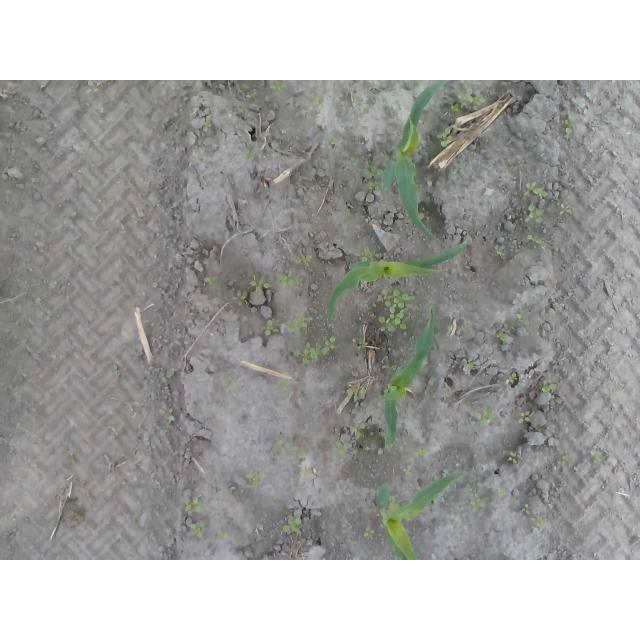Maize: (378, 80, 449, 236), (328, 241, 467, 315), (374, 469, 467, 560), (382, 308, 437, 450)
Weeds: (376, 289, 417, 339), (291, 336, 337, 365), (264, 312, 314, 337), (449, 91, 487, 117), (271, 440, 306, 465), (278, 271, 307, 289), (366, 165, 383, 195), (184, 496, 207, 513), (526, 179, 547, 197), (249, 277, 271, 294), (84, 80, 107, 96), (352, 247, 376, 262), (284, 517, 304, 535), (563, 112, 578, 136), (160, 406, 177, 427), (346, 384, 367, 401), (188, 524, 208, 541), (348, 422, 368, 439), (435, 128, 453, 146), (528, 205, 544, 224), (335, 441, 353, 457), (469, 496, 487, 512), (296, 254, 314, 269), (223, 379, 242, 393), (480, 409, 495, 426), (270, 81, 289, 94), (231, 290, 245, 307), (559, 203, 575, 217), (245, 86, 260, 100), (543, 380, 557, 393), (247, 472, 262, 484), (506, 449, 518, 464), (528, 234, 544, 244), (518, 411, 531, 423), (533, 515, 545, 528), (463, 359, 477, 370), (494, 247, 508, 258), (415, 448, 430, 457), (364, 528, 376, 539), (521, 504, 532, 516), (205, 276, 219, 285), (347, 156, 361, 165), (312, 94, 322, 106), (508, 372, 518, 384), (245, 150, 255, 160), (519, 319, 530, 328), (497, 331, 508, 340), (455, 160, 465, 169), (561, 453, 570, 463), (357, 340, 367, 348)
